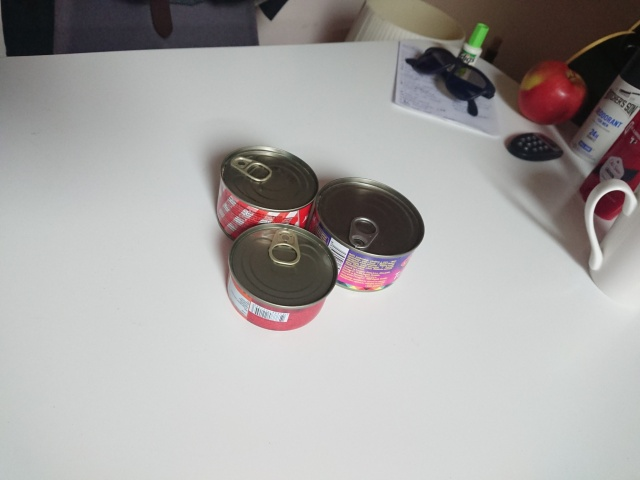Gavrilovic Pork Liver Pate 100g: (221, 220, 341, 333)
Giana Tuna Salad Mexico 185g: (297, 173, 428, 294)
Podravka Luncheon Meat 150g: (214, 142, 322, 249)
